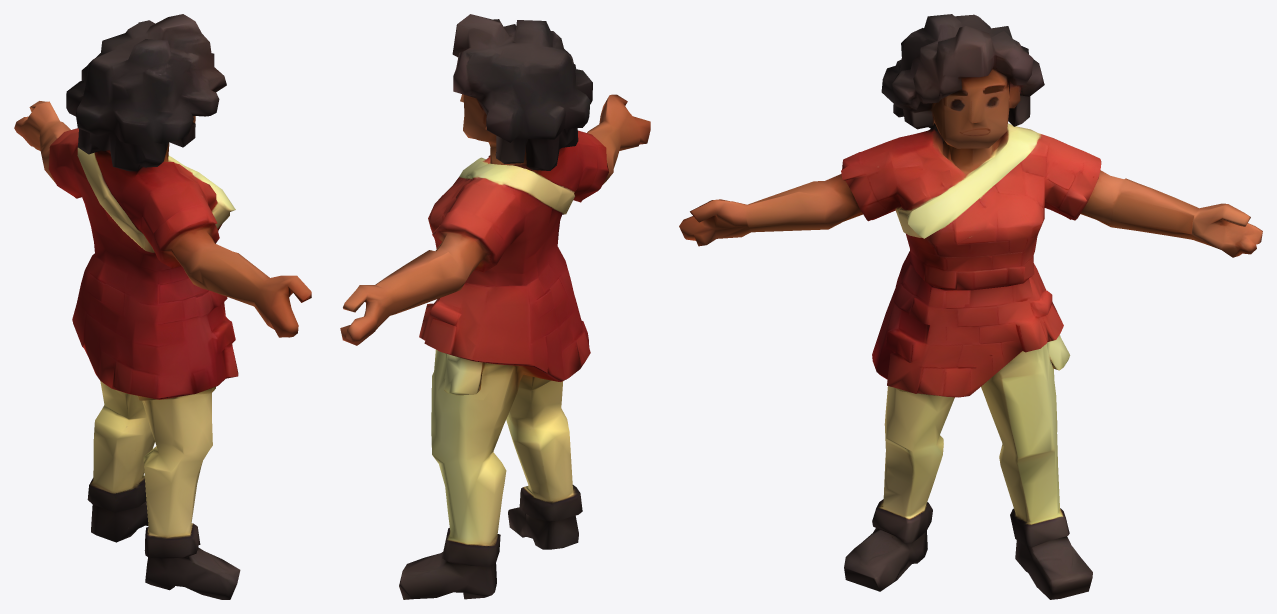
3 renders of one model, left to right at view 1: azimuth 30°, elevation 25°; view 2: azimuth 150°, elevation 25°; view 3: azimuth 270°, elevation 25°, orthographic. The views are drawn at different scales.
Parts seen in each view (by area): view 1: tripo_node_14df7eb3-3149-4fb3-8465-02b62514992e; view 2: tripo_node_14df7eb3-3149-4fb3-8465-02b62514992e; view 3: tripo_node_14df7eb3-3149-4fb3-8465-02b62514992e.
Boxes of the visible parts, x1,y1,x2,y2 form: tripo_node_14df7eb3-3149-4fb3-8465-02b62514992e: [14, 14, 311, 599]; tripo_node_14df7eb3-3149-4fb3-8465-02b62514992e: [340, 14, 650, 599]; tripo_node_14df7eb3-3149-4fb3-8465-02b62514992e: [679, 14, 1262, 599].
Bounding box in the file's own units: 0.2726 × 1 × 0.9601.
1 material, 1 textured.
